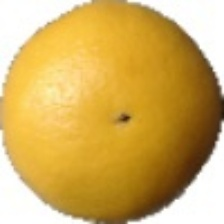grapes: (0, 51, 197, 193)
